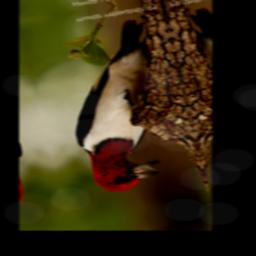Woodpecker: (50, 17, 181, 197)
